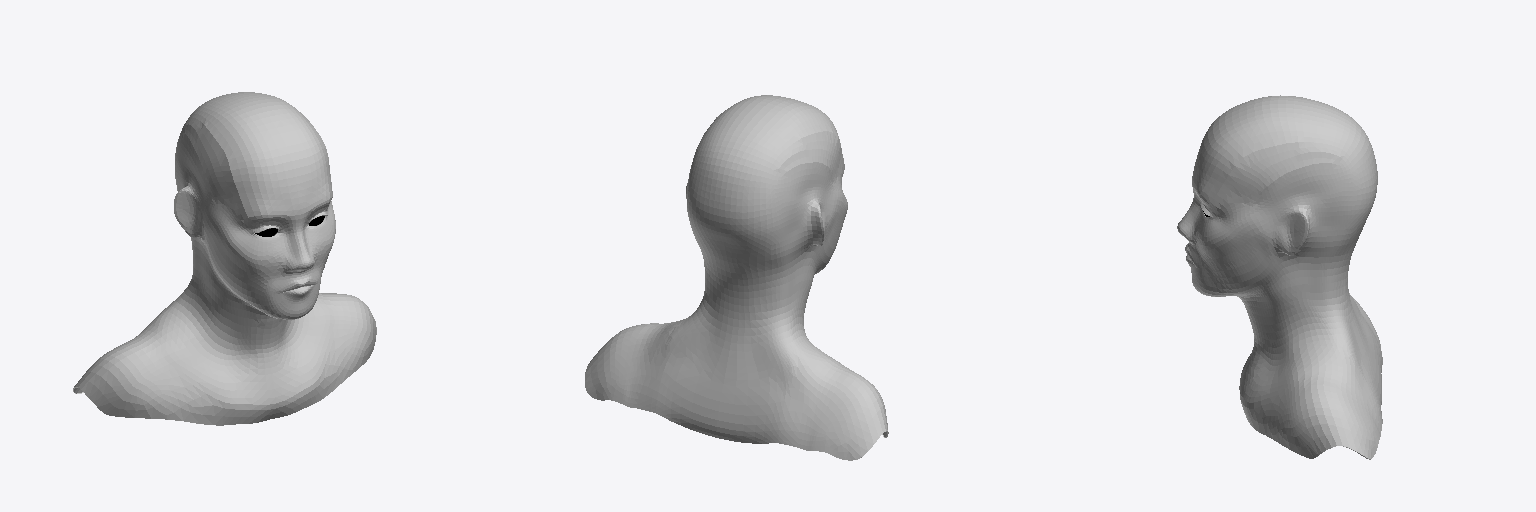
Rendered from head2.obj.
3 views of the same model, side by side, from view 1: azimuth 30°, elevation 25°; view 2: azimuth 150°, elevation 25°; view 3: azimuth 270°, elevation 25° (orthographic).
Visible parts, largest first — view 1: Plane.001; view 2: Plane.001; view 3: Plane.001.
Boxes of the visible parts, box(x1,y1,x2,y2) form: Plane.001: box(73, 92, 376, 425); Plane.001: box(585, 95, 888, 460); Plane.001: box(1177, 95, 1382, 459).
Size of the model in its own units: 2.97 by 2.95 by 1.8.